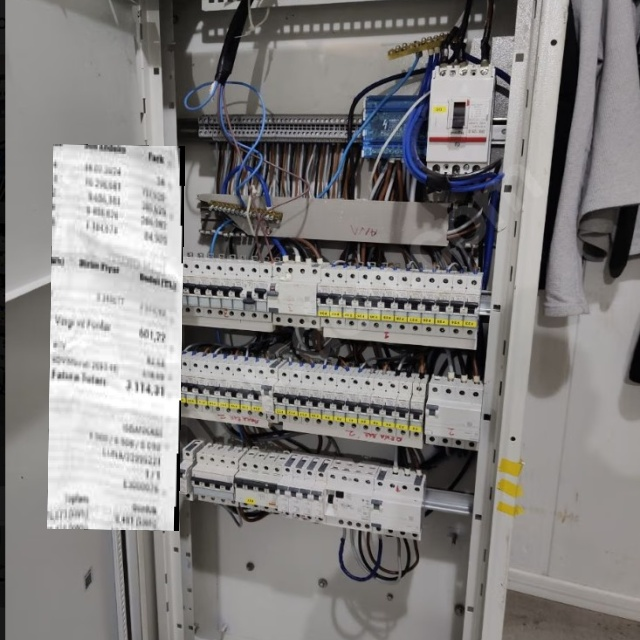electricity-bill: (47, 144, 185, 531)
